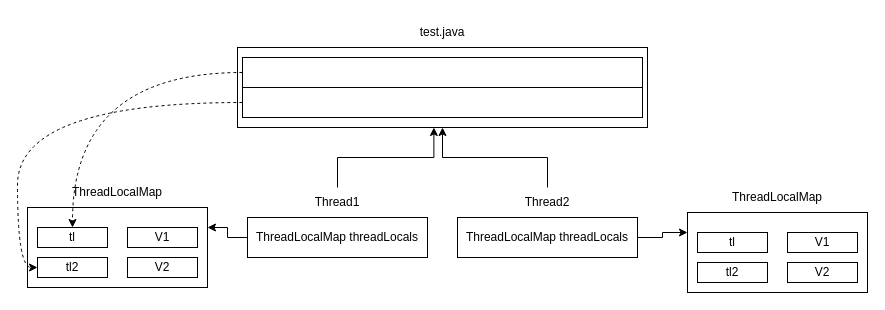
The diagram is 885 pixels wide and 310 high, and some of its shapes have lost their labels. Here are the shapes that lost their labels. From the top down, the box of each, then its label:
(242, 56, 642, 88): private static ThreadLocal<String> tl = new ThreadLocal<String>();
(242, 86, 642, 118): private static ThreadLocal<String> tl2 = new ThreadLocal<String>();
